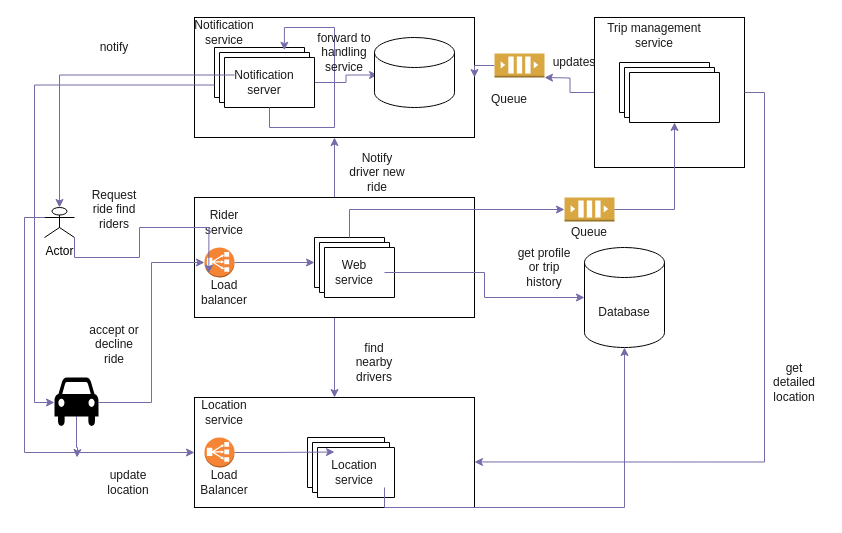
The diagram is 842 pixels wide and 533 high, and some of its shapes have lost their labels. Each missing label, with the centre of its shape:
"connection daatbase" belongs at (414,72).
"Trip manager" belongs at (669,92).
